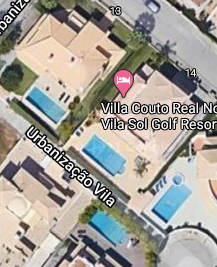pool: (85, 136, 122, 173), (90, 210, 126, 242), (27, 92, 66, 119), (164, 184, 184, 218)
